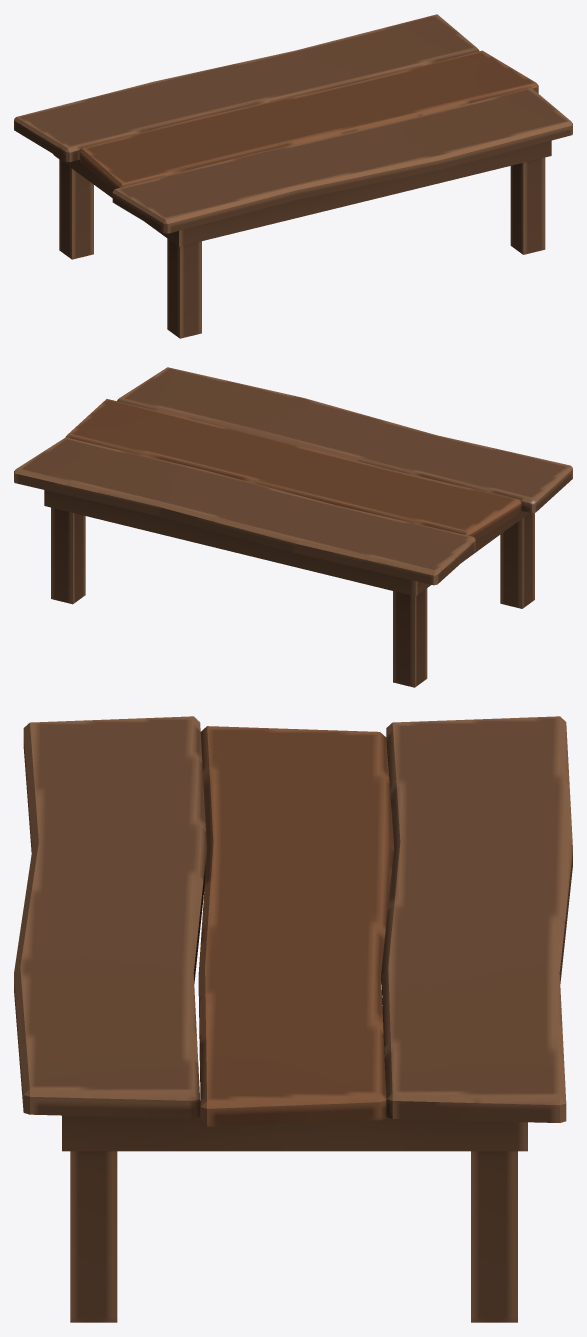
The model's file is RuralProps_Table.fbx.
3 views of the same model, one above another, from view 1: azimuth 30°, elevation 25°; view 2: azimuth 150°, elevation 25°; view 3: azimuth 270°, elevation 25° (orthographic). The views are drawn at different scales.
Visible parts, largest first — view 1: pCube68; view 2: pCube68; view 3: pCube68.
Part boxes in pixels (x1,y1,x2,y2): pCube68: (14,14,572,338); pCube68: (14,367,572,687); pCube68: (14,716,572,1322).
Size of the model in its own units: 6.29 by 1.86 by 3.82.
1 material, 1 textured.
